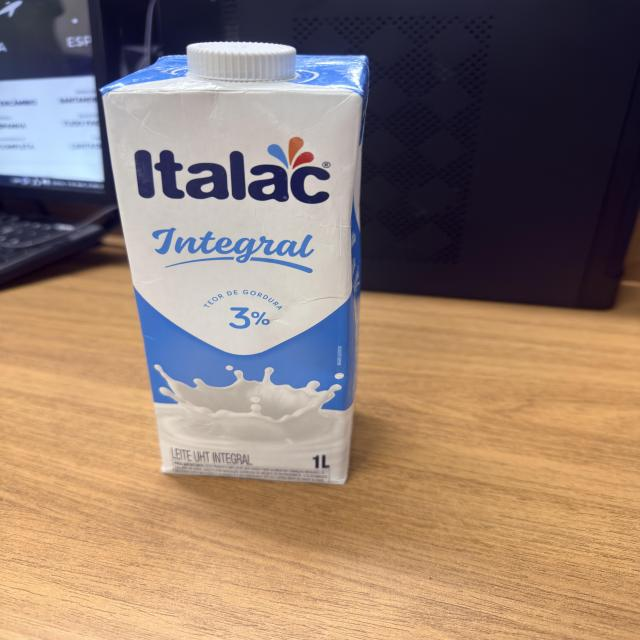Caixa de Leite: (97, 42, 377, 487)
